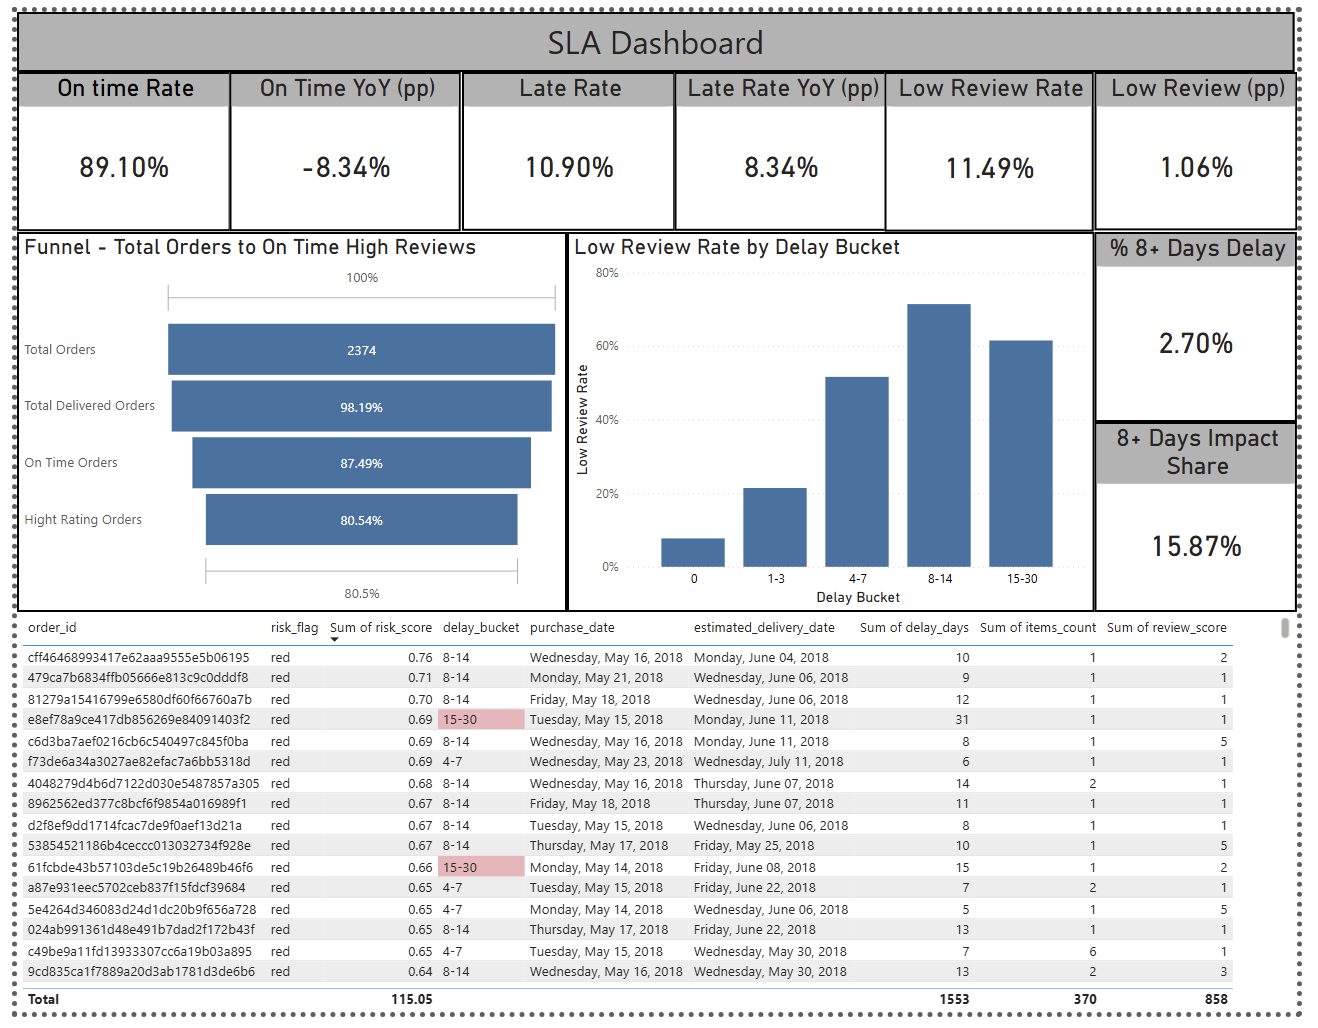

Layout of this report page (visuals, bound fields, positions):
{"tool":"tableau","page":{"name":"SLA Dashboard","canvas":[1200,800],"ordinal":0},"visuals":[{"type":"text","box":[8,8,1006,87.1]},{"type":"parameter","param":"[Parameters].[Parameter 1]","box":[1017,11,172,52]},{"type":"parameter","param":"[Parameters].[Start Date (copy)_4330725225193481]","box":[1017,63,172,52]},{"type":"text","box":[8,95,168,48]},{"type":"text","box":[176,95,168,48]},{"type":"text","box":[344,95,168,48]},{"type":"text","box":[512,95,168,48]},{"type":"text","box":[680,95,167,48]},{"type":"text","box":[847,95,167,48]},{"type":"worksheet","title":"KPI - On Time Rate","mark":"Automatic","box":[8,143,168,126]},{"type":"worksheet","title":"KPI - On Time Rate WoW","mark":"Automatic","box":[176,143,168,126]},{"type":"worksheet","title":"KPI - Late Rate","mark":"Automatic","box":[344,143,168,126]},{"type":"worksheet","title":"KPI - Late Rate WoW","mark":"Automatic","box":[512,143,168,126]},{"type":"worksheet","title":"KPI - Low Review Rate","mark":"Automatic","box":[680,143,167,126]},{"type":"worksheet","title":"KPI - Low Review Rate WoW","mark":"Automatic","box":[847,143,167,126]},{"type":"worksheet","title":"Funnel - Delivered to Low Review","mark":"Bar","box":[8,269,503,282]},{"type":"worksheet","title":"Low review rate by delay_bucket","mark":"Automatic","rows":["Calculation_4330725257904164"],"cols":["delay_bucket"],"box":[511,269,503,282]},{"type":"worksheet","title":"Ops Queue – Orders","mark":"Automatic","rows":["order_id","risk_flag","risk_score","delay_bucket","delivered_date","estimated_delivery_date","delay_days","is_low_review"],"box":[8,551,1006,241]}]}

Visuals, with their boxes on the page's 1200x800 design canvas (x1, y1, x2, y2). These are canvas units, not pixel positions in the 1318x1028 screenshot, which may show the page scaled, cropped or inside an application window:
text: crop(8, 8, 1014, 95)
parameter: crop(1017, 11, 1189, 63)
parameter: crop(1017, 63, 1189, 115)
text: crop(8, 95, 176, 143)
text: crop(176, 95, 344, 143)
text: crop(344, 95, 512, 143)
text: crop(512, 95, 680, 143)
text: crop(680, 95, 847, 143)
text: crop(847, 95, 1014, 143)
"KPI - On Time Rate" worksheet: crop(8, 143, 176, 269)
"KPI - On Time Rate WoW" worksheet: crop(176, 143, 344, 269)
"KPI - Late Rate" worksheet: crop(344, 143, 512, 269)
"KPI - Late Rate WoW" worksheet: crop(512, 143, 680, 269)
"KPI - Low Review Rate" worksheet: crop(680, 143, 847, 269)
"KPI - Low Review Rate WoW" worksheet: crop(847, 143, 1014, 269)
"Funnel - Delivered to Low Review" worksheet (Bar marks): crop(8, 269, 511, 551)
"Low review rate by delay_bucket" worksheet: crop(511, 269, 1014, 551)
"Ops Queue – Orders" worksheet: crop(8, 551, 1014, 792)
